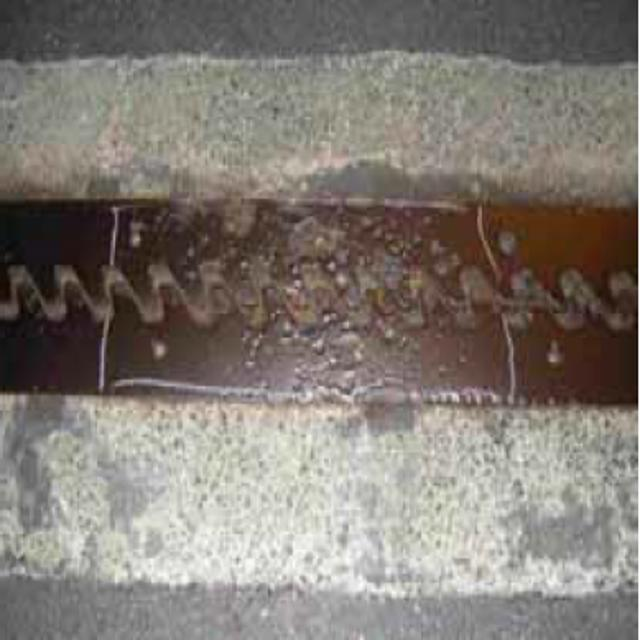corrosion: (4, 183, 640, 430)
